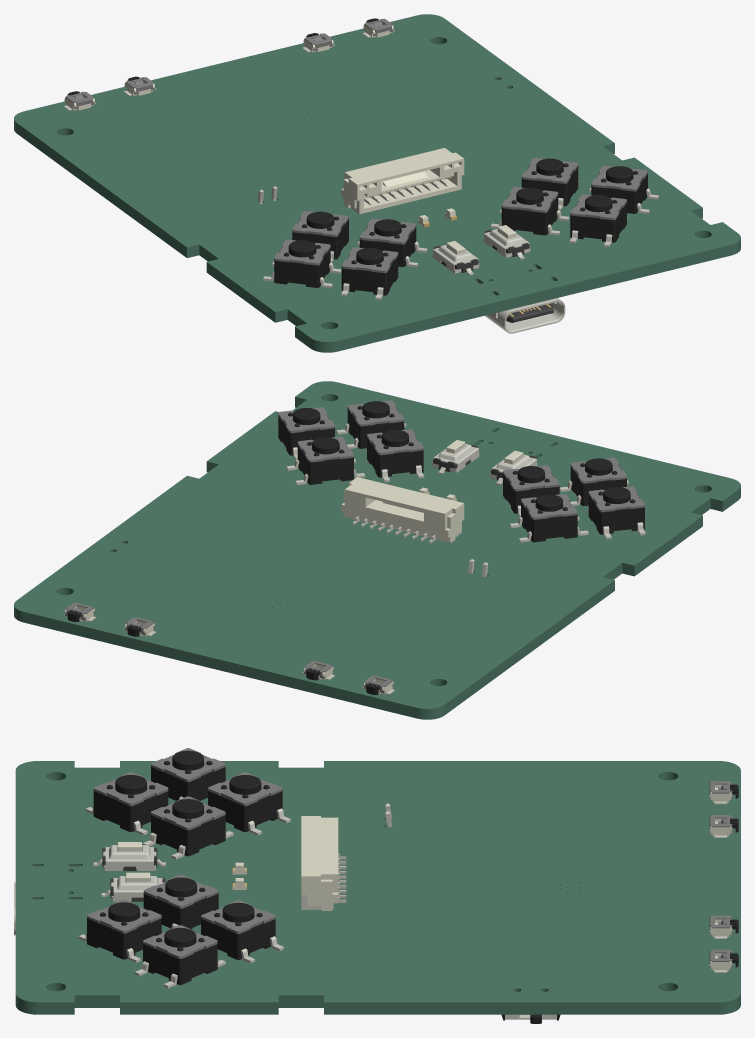
File: copperpilot_retro_handheld_pcb_populated.glb
The picture shows the model from 3 angles, top to bottom: view 1: azimuth 30°, elevation 25°; view 2: azimuth 150°, elevation 25°; view 3: azimuth 270°, elevation 25°; orthographic projection. The views are drawn at different scales.
Parts seen in each view (by area): view 1: =>[0:1:1:36], =>[0:1:1:3] (×8), =>[0:1:1:9], =>[0:1:1:11] (×2), =>[0:1:1:27]; view 2: =>[0:1:1:36], =>[0:1:1:3] (×8), =>[0:1:1:9], =>[0:1:1:11] (×2); view 3: =>[0:1:1:36], =>[0:1:1:3] (×8), =>[0:1:1:9], =>[0:1:1:11] (×2), =>[0:1:1:7] (×4).
Boxes of the visible parts, bbox=[...] form: =>[0:1:1:36]: bbox=[14, 14, 740, 352]; =>[0:1:1:3] (×8): bbox=[263, 158, 658, 300]; =>[0:1:1:9]: bbox=[341, 148, 464, 214]; =>[0:1:1:11] (×2): bbox=[432, 225, 530, 275]; =>[0:1:1:27]: bbox=[485, 298, 565, 333]; =>[0:1:1:36]: bbox=[14, 381, 740, 719]; =>[0:1:1:3] (×8): bbox=[277, 400, 645, 542]; =>[0:1:1:9]: bbox=[341, 477, 464, 543]; =>[0:1:1:11] (×2): bbox=[432, 440, 537, 484]; =>[0:1:1:36]: bbox=[15, 761, 740, 1014]; =>[0:1:1:3] (×8): bbox=[78, 748, 290, 988]; =>[0:1:1:9]: bbox=[301, 816, 346, 910]; =>[0:1:1:11] (×2): bbox=[93, 842, 165, 901]; =>[0:1:1:7] (×4): bbox=[709, 781, 738, 972].
Bounding box in the file's own units: 0.063 × 0.0108 × 0.0802.
